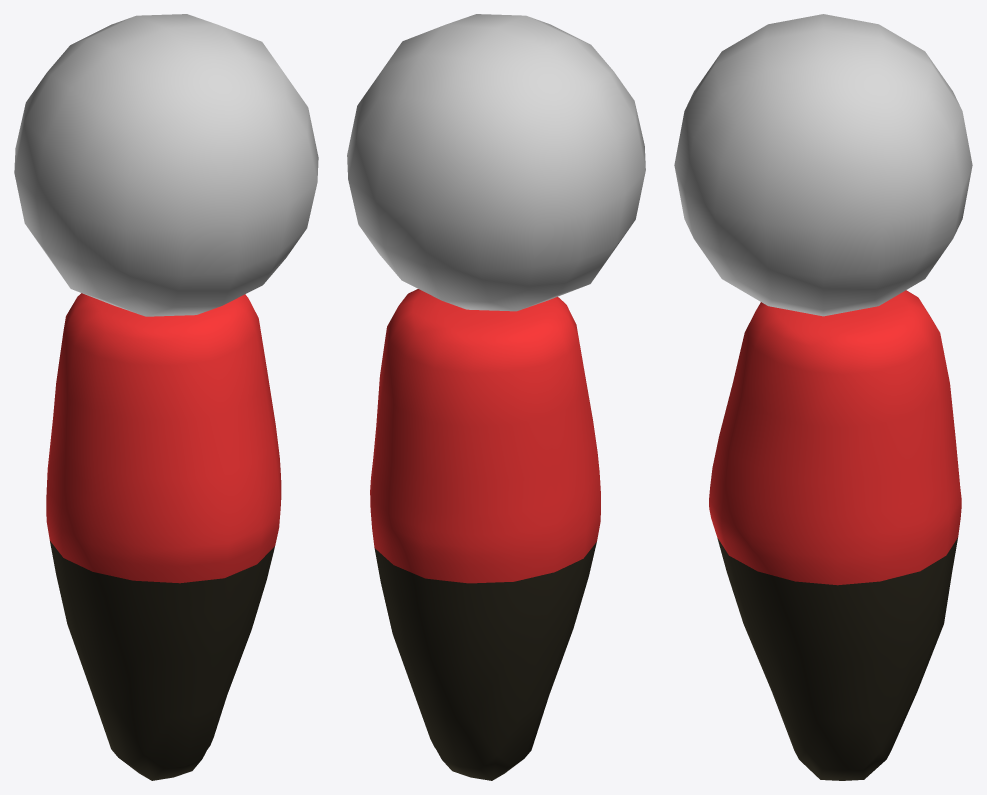
File: Baby.fbx
3 views of the same model, side by side, from view 1: azimuth 30°, elevation 25°; view 2: azimuth 150°, elevation 25°; view 3: azimuth 270°, elevation 25° (orthographic).
Parts seen in each view (by area): view 1: Body, Head; view 2: Body, Head; view 3: Body, Head.
Boxes of the visible parts, box(x1,y1,x2,y2) form: Body: box(46, 293, 281, 780); Head: box(14, 14, 318, 316); Body: box(370, 289, 600, 780); Head: box(347, 14, 645, 311); Body: box(709, 290, 961, 780); Head: box(674, 14, 972, 316).
Size of the model in its own units: 39.99 by 109 by 39.99.
